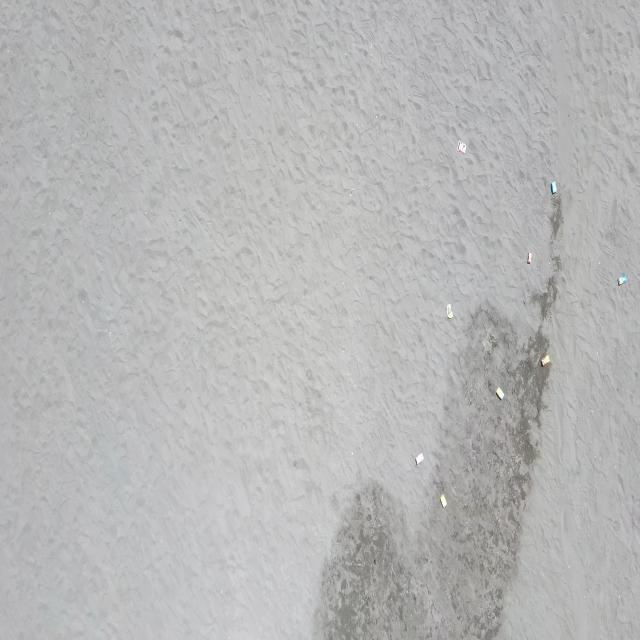retort-pouch: (494, 387, 506, 401), (616, 274, 628, 286), (415, 453, 426, 466), (440, 494, 450, 508), (457, 141, 467, 154), (540, 354, 550, 367), (549, 180, 558, 194), (446, 305, 454, 320), (526, 252, 533, 264)
